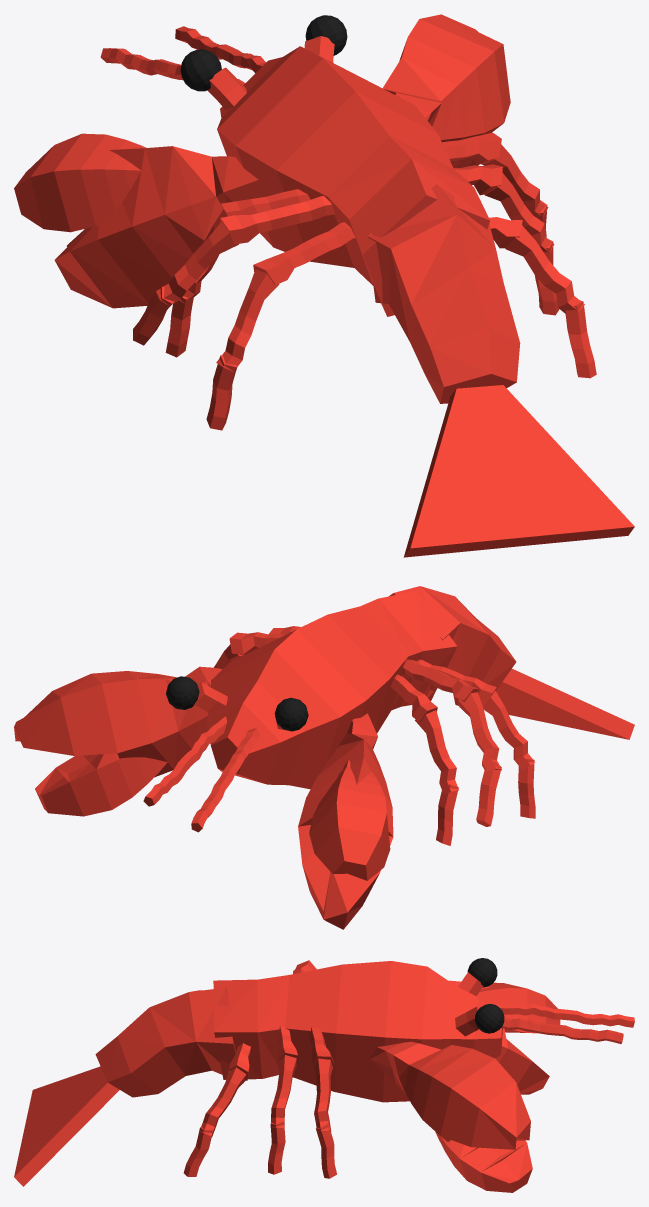
The model's file is lobster.glb.
3 renders of one model, top to bottom at view 1: azimuth 30°, elevation 25°; view 2: azimuth 150°, elevation 25°; view 3: azimuth 270°, elevation 25°, orthographic. The views are drawn at different scales.
Parts seen in each view (by area): view 1: body, finLeft, tail, finRight, legLast, legMiddle, legFirst, mustacheRight, mustacheLeft; view 2: body, finRight, finLeft, tail, legFirst, legMiddle, legLast, mustacheLeft, mustacheRight; view 3: body, finRight, tail, finLeft, legMiddle, legFirst, legLast, mustacheLeft, mustacheRight.
Boxes of the visible parts, x1,y1,x2,y2 form: body: (180,15,520,403); finLeft: (14,133,264,308); tail: (403,385,634,557); finRight: (382,14,510,167); legLast: (206,217,596,430); legMiddle: (133,164,559,345); legFirst: (165,132,548,357); mustacheRight: (175,26,265,73); mustacheLeft: (100,48,245,84); body: (166,586,516,789); finRight: (14,666,221,816); finLeft: (298,713,393,929); tail: (496,668,634,739); legFirst: (214,632,458,845); legMiddle: (269,626,501,826); legLast: (416,659,535,818); mustacheLeft: (191,727,259,832); mustacheRight: (143,716,227,806); body: (95,958,504,1102); finRight: (370,1041,532,1192); tail: (14,1066,119,1186); finLeft: (448,980,560,1094); legMiddle: (268,960,316,1174); legFirst: (309,1026,336,1178); legLast: (183,1043,250,1176); mustacheLeft: (492,1003,634,1027); mustacheRight: (501,1017,623,1043).
Bounding box in the file's own units: 0.8665 × 0.5145 × 1.37.
